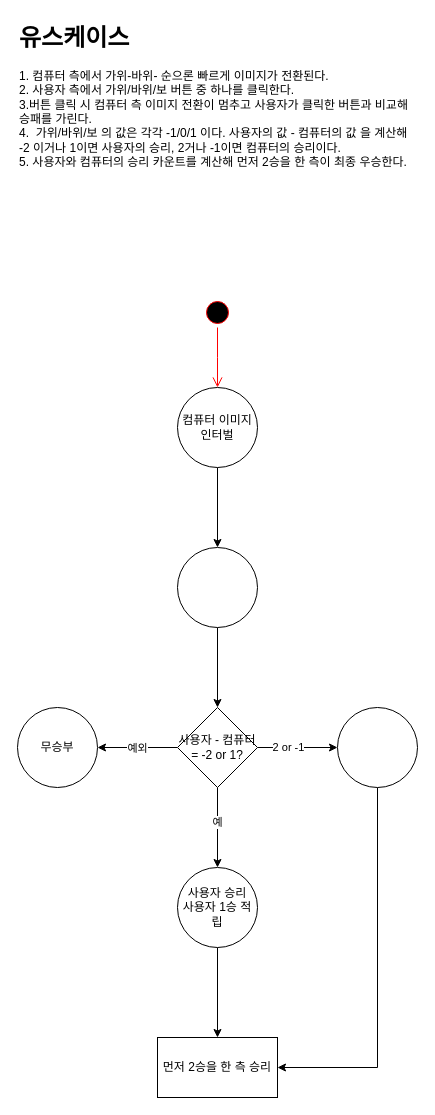
Image size: 435x1115. Some labels were removed from this diagram. The centre of each missing label's shape, as x and y in pixels:
"사용자 가위/바위/보 버튼 클릭 및 인터벌 멈춤" goes at (x=217, y=587).
"컴퓨터 승리 컴퓨터 1승 적립" goes at (x=377, y=747).
